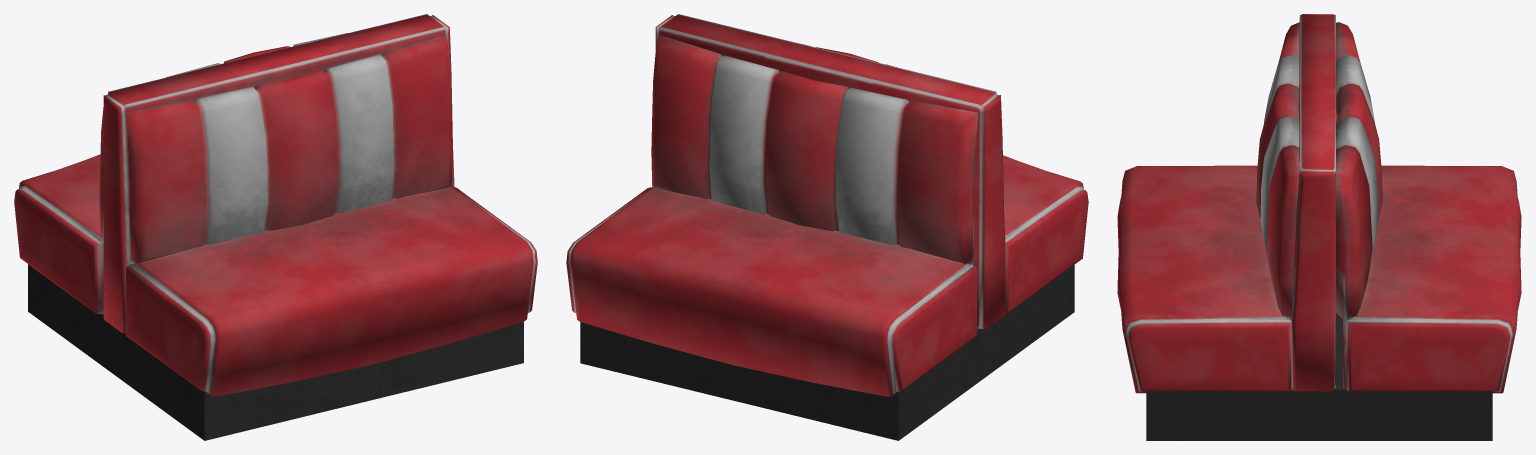
Rendered from TMM_DoubleBooth.fbx.
The picture shows the model from 3 angles, left to right: view 1: azimuth 30°, elevation 25°; view 2: azimuth 150°, elevation 25°; view 3: azimuth 270°, elevation 25°; orthographic projection.
Visible parts, largest first — view 1: TMM_DoubleBooth; view 2: TMM_DoubleBooth; view 3: TMM_DoubleBooth.
Boxes of the visible parts, bbox=[...] form: TMM_DoubleBooth: bbox=[14, 14, 537, 440]; TMM_DoubleBooth: bbox=[566, 14, 1088, 440]; TMM_DoubleBooth: bbox=[1117, 14, 1521, 440].
Bounding box in the file's own units: 200 × 160 × 214.
